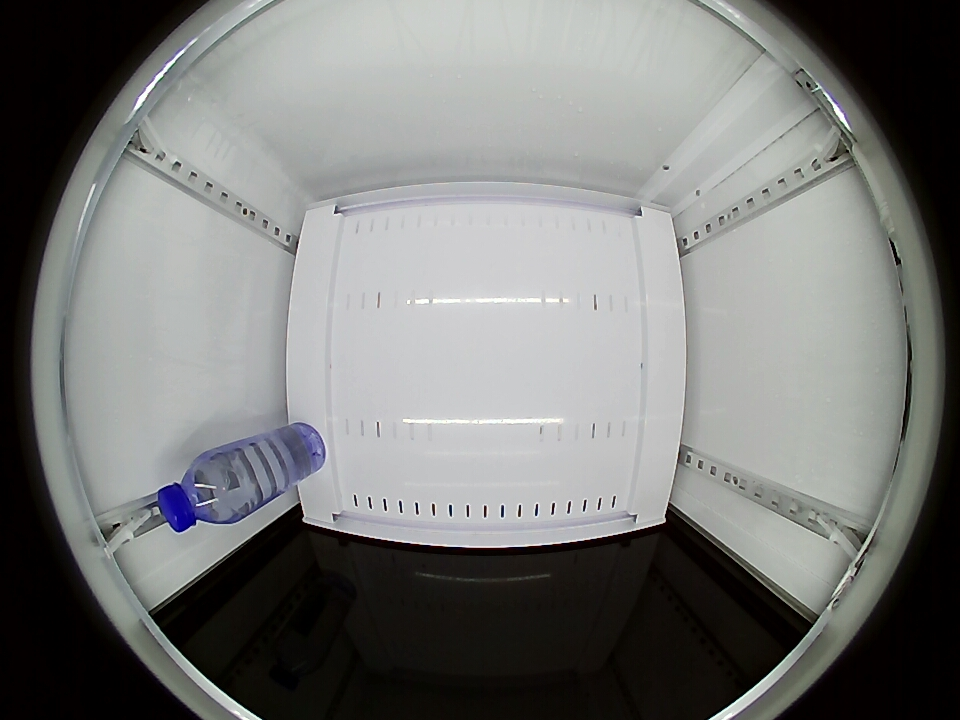aerbeisi: (156, 454, 244, 533)
